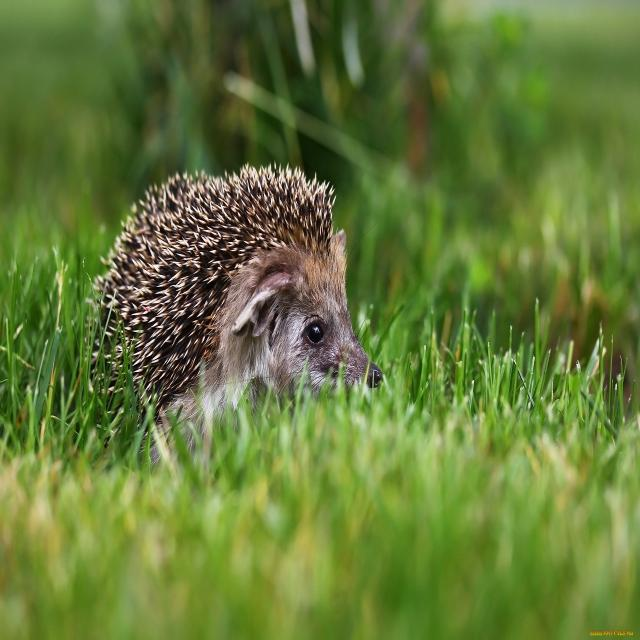Hedgehog: (89, 159, 398, 461)
